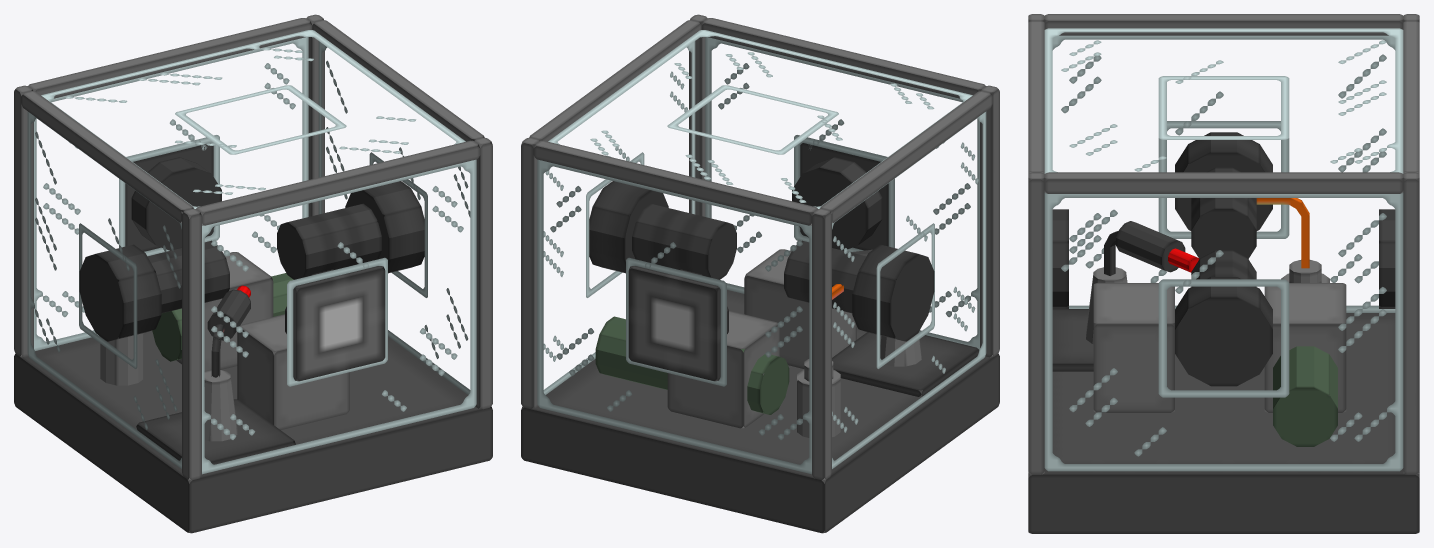
File: silex.obj
The picture shows the model from 3 angles, left to right: view 1: azimuth 30°, elevation 25°; view 2: azimuth 150°, elevation 25°; view 3: azimuth 270°, elevation 25°; orthographic projection. The views are drawn at different scales.
Parts seen in each view (by area): view 1: cube; view 2: cube; view 3: cube.
Part boxes in pixels (left/top/right/bottom): cube: left=14, top=14, right=492, bottom=533; cube: left=521, top=14, right=999, bottom=533; cube: left=1028, top=14, right=1419, bottom=533.
Size of the model in its own units: 3 by 3 by 3.
